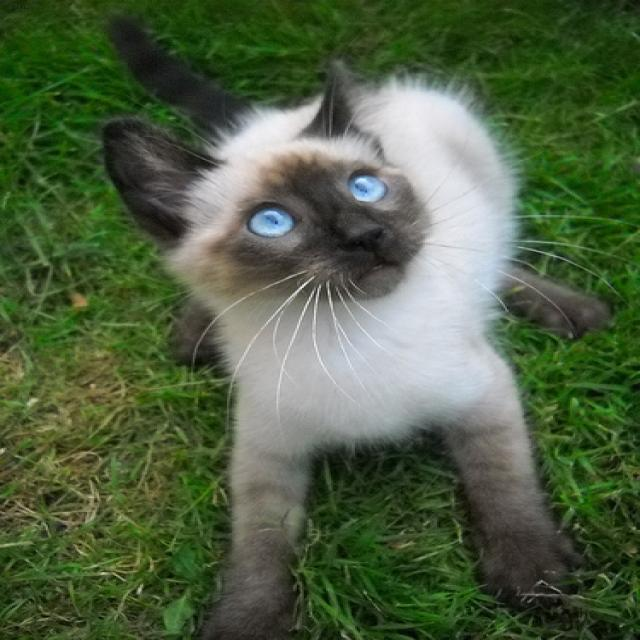Siamese: (99, 59, 423, 299)
